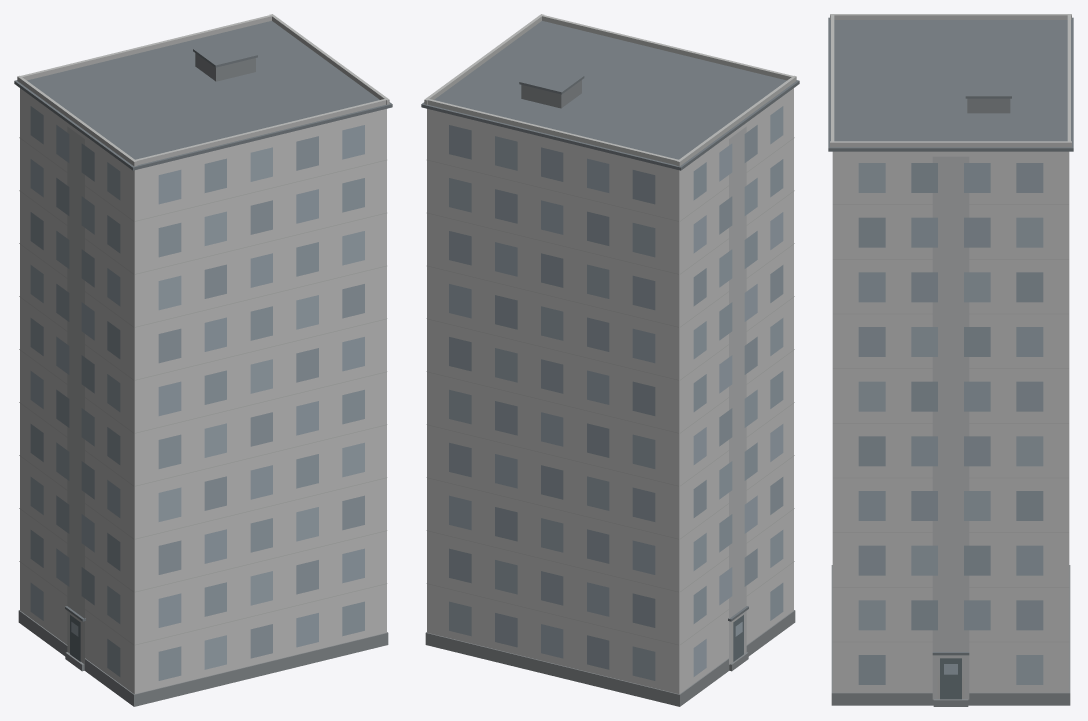
File: tower_0.glb
3 renders of one model, left to right at view 1: azimuth 30°, elevation 25°; view 2: azimuth 150°, elevation 25°; view 3: azimuth 270°, elevation 25°, orthographic. The views are drawn at different scales.
Parts seen in each view (by area): view 1: tower_0; view 2: tower_0; view 3: tower_0.
Part boxes in pixels (bbox=[...]): tower_0: bbox=[14, 14, 392, 706]; tower_0: bbox=[421, 14, 799, 706]; tower_0: bbox=[828, 14, 1073, 706].
Size of the model in its own units: 14.4 by 29.57 by 11.4.
